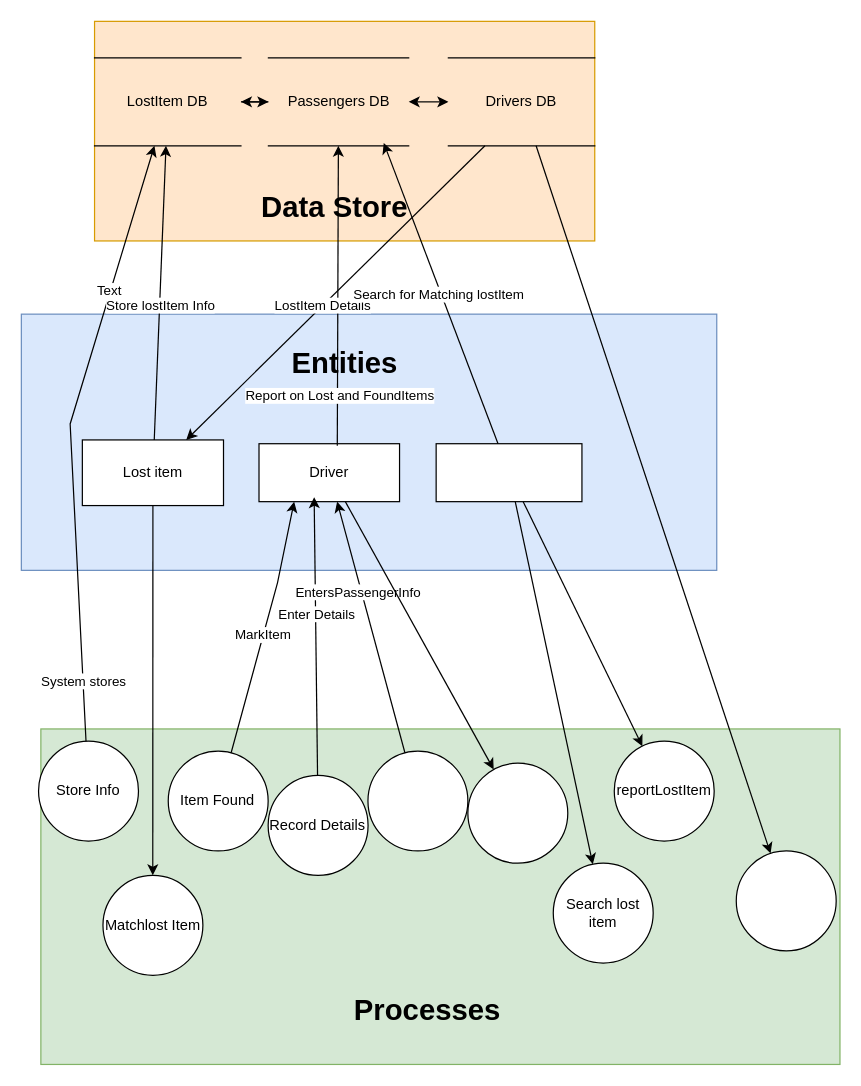
The diagram is 861 pixels wide and 1086 high, and some of its shapes have lost their labels. Here are the shapes that lost their labels. From the top down, the box of each, then its label:
(435, 442, 582, 502): Passenger
(367, 750, 468, 851): Record Passenger Info Optional
(467, 762, 568, 863): Mark Item returned
(735, 850, 836, 951): Generate Report
